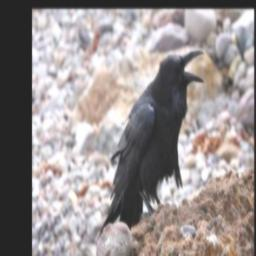Crow: (96, 51, 204, 239)
